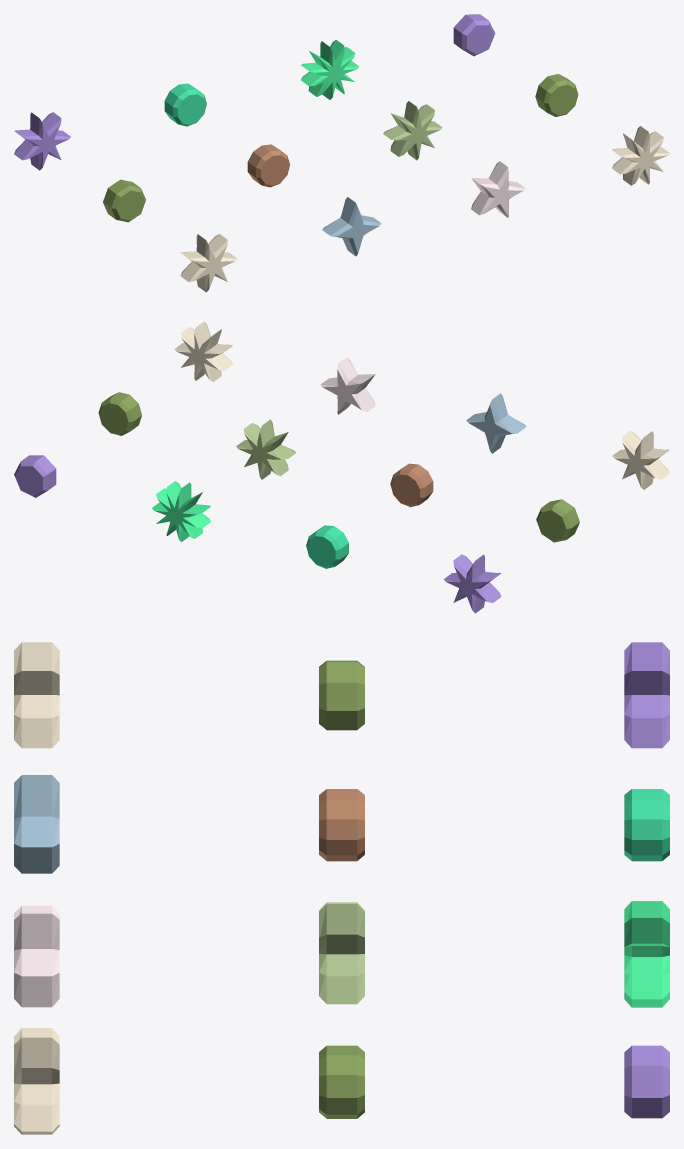
File: 3_LinearExtrusionTest_2023-06-04-15-32-24.gltf
The picture shows the model from 3 angles, top to bottom: view 1: azimuth 30°, elevation 25°; view 2: azimuth 150°, elevation 25°; view 3: azimuth 270°, elevation 25°; orthographic projection. The views are drawn at different scales.
Size of the model in its own units: 668 by 71.31 by 430.
